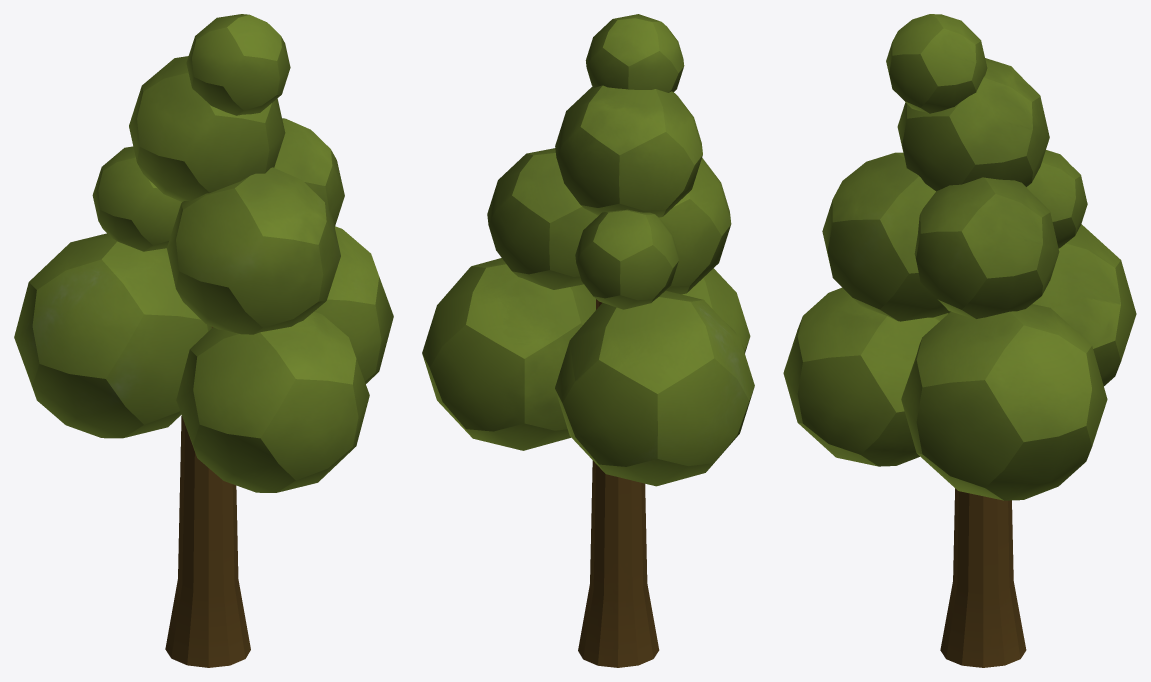
Rendered from pohon_2.fbx.
3 renders of one model, left to right at view 1: azimuth 30°, elevation 25°; view 2: azimuth 150°, elevation 25°; view 3: azimuth 270°, elevation 25°, orthographic. The views are drawn at different scales.
Parts seen in each view (by area): view 1: pPlatonic3, pPlatonic1, pPlatonic5, pPlatonic7, pCylinder2, pPlatonic8, pPlatonic4, pPlatonic9, pPlatonic6; view 2: pPlatonic3, pPlatonic4, pPlatonic7, pCylinder2, pPlatonic6, pPlatonic9, pPlatonic8, pPlatonic5, pPlatonic1; view 3: pPlatonic4, pPlatonic1, pPlatonic6, pPlatonic5, pPlatonic7, pCylinder2, pPlatonic3, pPlatonic8, pPlatonic9.
Boxes of the visible parts, x1,y1,x2,y2 form: pPlatonic3: [14, 233, 211, 438]; pPlatonic1: [176, 311, 369, 492]; pPlatonic5: [167, 167, 340, 334]; pPlatonic7: [129, 56, 285, 201]; pCylinder2: [165, 327, 250, 667]; pPlatonic8: [186, 14, 290, 115]; pPlatonic4: [314, 226, 393, 383]; pPlatonic9: [92, 146, 181, 251]; pPlatonic6: [274, 118, 344, 226]; pPlatonic3: [555, 290, 754, 486]; pPlatonic4: [422, 258, 595, 450]; pPlatonic7: [555, 85, 702, 217]; pCylinder2: [578, 299, 659, 667]; pPlatonic6: [487, 148, 598, 289]; pPlatonic9: [575, 209, 678, 309]; pPlatonic8: [585, 14, 684, 92]; pPlatonic5: [659, 158, 731, 294]; pPlatonic1: [682, 268, 750, 353]; pPlatonic4: [901, 304, 1107, 500]; pPlatonic1: [783, 287, 948, 466]; pPlatonic6: [914, 177, 1059, 318]; pPlatonic5: [822, 152, 949, 321]; pPlatonic7: [897, 58, 1049, 191]; pCylinder2: [940, 488, 1026, 667]; pPlatonic3: [948, 224, 1136, 385]; pPlatonic8: [886, 14, 987, 113]; pPlatonic9: [1026, 150, 1087, 248].
Size of the model in its own units: 3.87 by 7.16 by 3.61.
